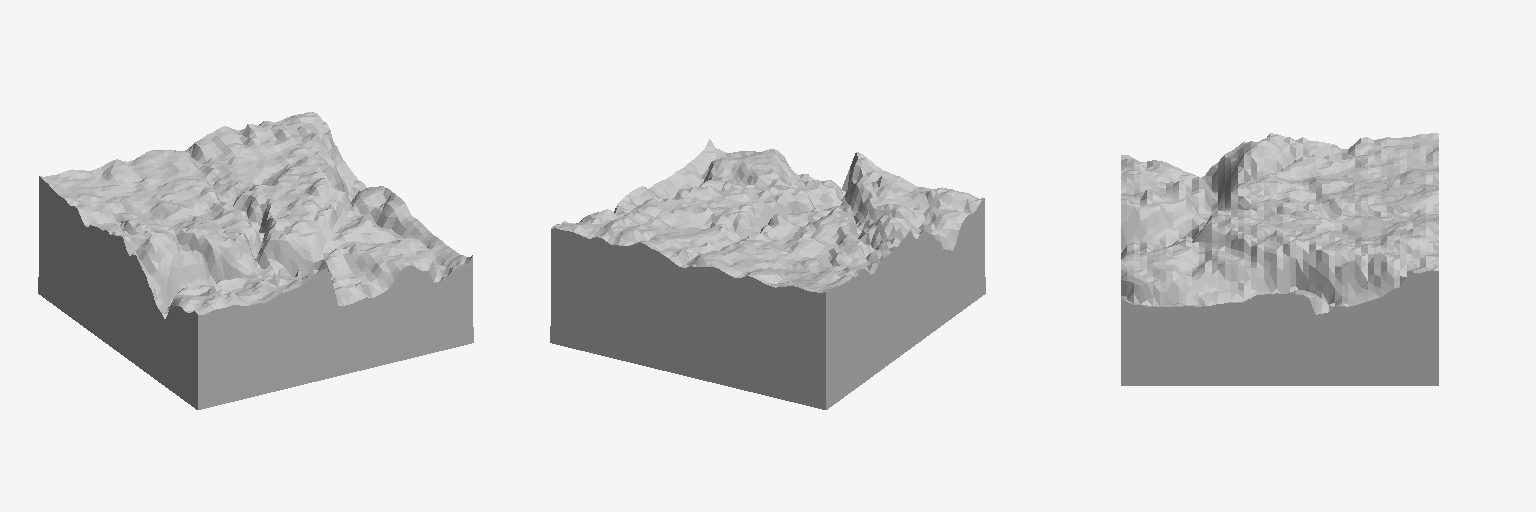
File: block_0_1.obj
3 renders of one model, left to right at view 1: azimuth 30°, elevation 25°; view 2: azimuth 150°, elevation 25°; view 3: azimuth 270°, elevation 25°, orthographic.
Parts seen in each view (by area): view 1: Mesh_2; view 2: Mesh_2; view 3: Mesh_2.
Boxes of the visible parts, x1=… form: Mesh_2: x1=38, y1=112, x2=473, y2=409; Mesh_2: x1=550, y1=139, x2=985, y2=409; Mesh_2: x1=1121, y1=133, x2=1438, y2=385.
Size of the model in its own units: 0.1 by 0.0434 by 0.1.